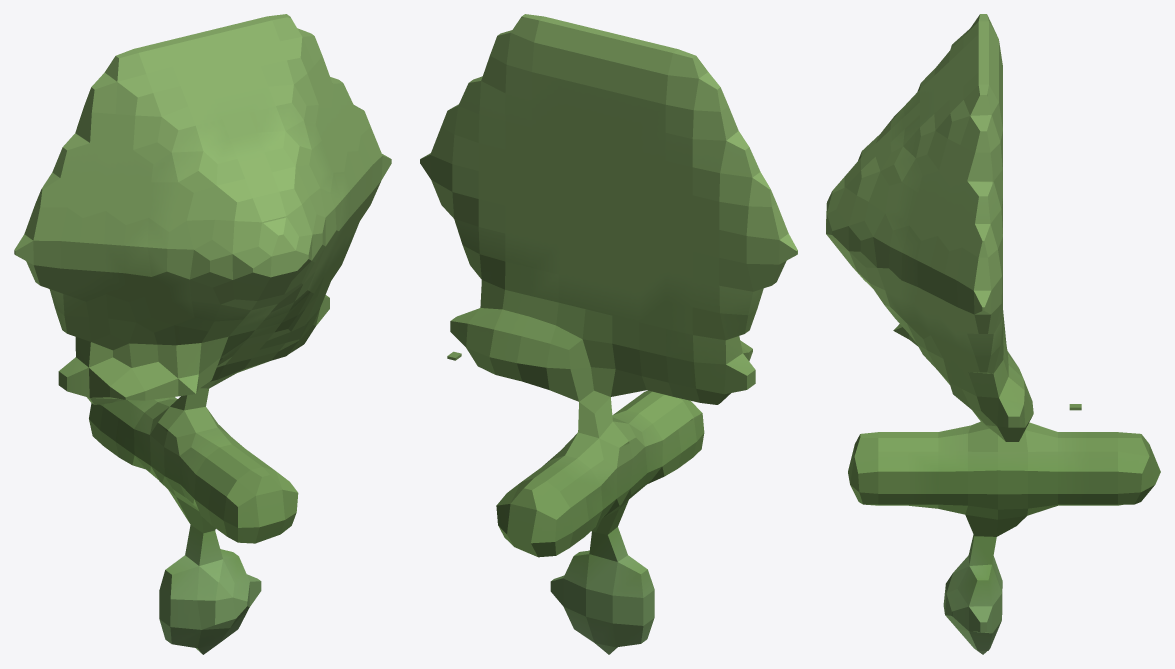
Rendered from poisonMushroom.glb.
The picture shows the model from 3 angles, left to right: view 1: azimuth 30°, elevation 25°; view 2: azimuth 150°, elevation 25°; view 3: azimuth 270°, elevation 25°; orthographic projection. The views are drawn at different scales.
Parts seen in each view (by area): view 1: geometry_0; view 2: geometry_0; view 3: geometry_0.
Part boxes in pixels (bbox=[...]): geometry_0: bbox=[14, 14, 391, 654]; geometry_0: bbox=[420, 14, 797, 654]; geometry_0: bbox=[826, 14, 1160, 654].
Size of the model in its own units: 0.5863 by 0.9232 by 0.4656.
Materials: 1 (1 with a texture image).
